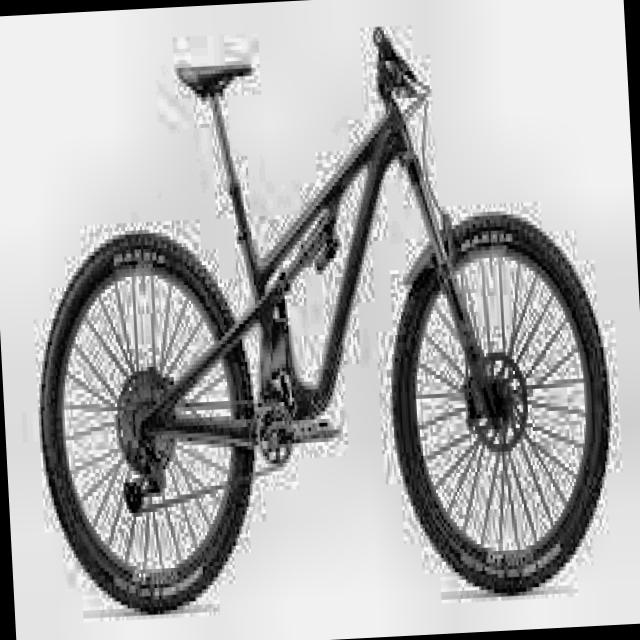bicycle: (15, 3, 623, 631)
